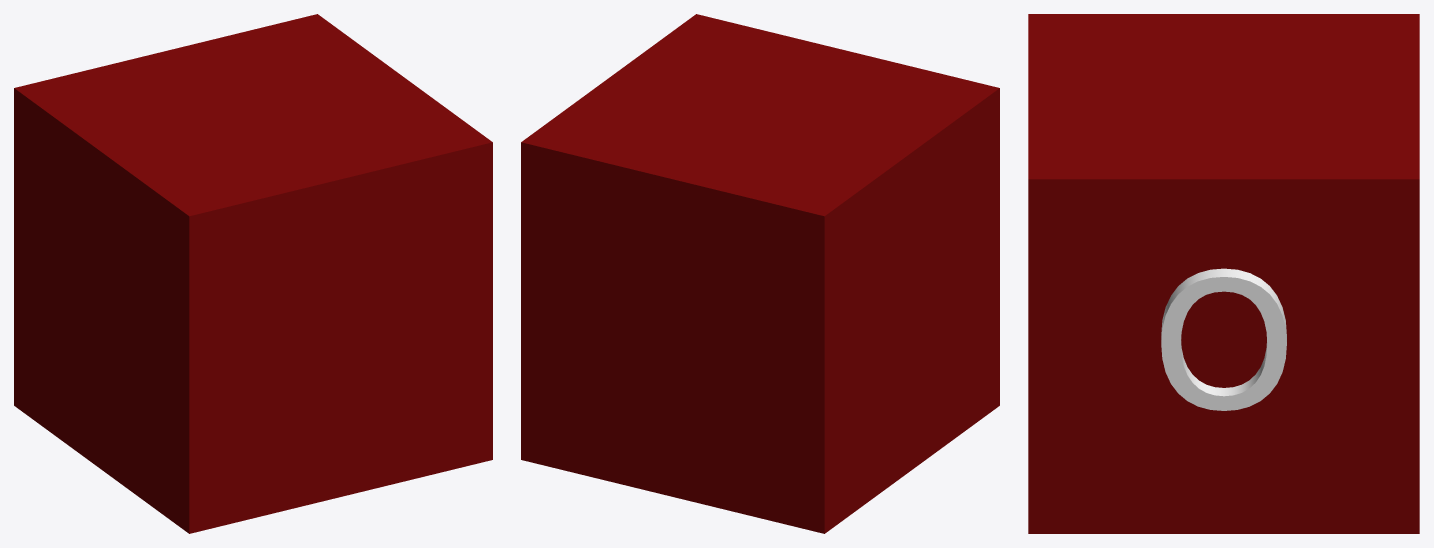
3 views of the same model, side by side, from view 1: azimuth 30°, elevation 25°; view 2: azimuth 150°, elevation 25°; view 3: azimuth 270°, elevation 25° (orthographic). The views are drawn at different scales.
Parts seen in each view (by area): view 1: SketchUp; view 2: SketchUp; view 3: SketchUp, O (×2).
Boxes of the visible parts, x1=… form: SketchUp: x1=14, y1=14, x2=492, y2=533; SketchUp: x1=521, y1=14, x2=999, y2=533; SketchUp: x1=1028, y1=14, x2=1419, y2=533; O (×2): x1=1161, y1=268, x2=1286, y2=410.
Size of the model in its own units: 21 by 20 by 20.
